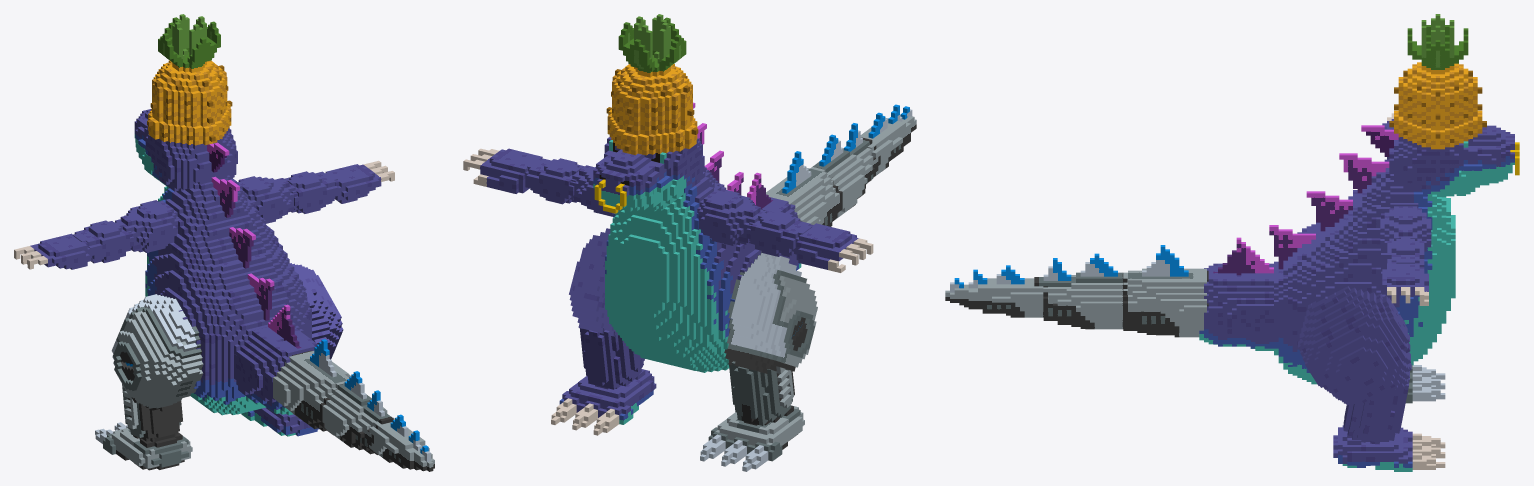
Rendered from nose ring.gltf.
3 renders of one model, left to right at view 1: azimuth 30°, elevation 25°; view 2: azimuth 150°, elevation 25°; view 3: azimuth 270°, elevation 25°, orthographic. The views are drawn at different scales.
Parts seen in each view (by area): view 1: Body-Local, Skull-Local, Upper_Leg_L-Local, Tail_01-Local, Tail_02-Local, Tail_03-Local, Feet_L-Local, Tail_04-Local, Upper_Arm_L-Local, Upper_Leg_R-Local, Claw_L-Local, Lower_Leg_L-Local (+5 smaller); view 2: Body-Local, Skull-Local, Upper_Leg_L-Local, Feet_L-Local, Feet_R-Local, Lower_Leg_L-Local, Tail_02-Local, Tail_03-Local, Upper_Leg_R-Local, Lower_Leg_R-Local, Upper_Arm_L-Local, Claw_L-Local (+8 smaller); view 3: Body-Local, Skull-Local, Upper_Leg_R-Local, Tail_01-Local, Tail_02-Local, Tail_03-Local, Tail_04-Local, Feet_R-Local, Lower_Leg_R-Local, Upper_Arm_R-Local, Claw_R-Local, Feet_L-Local (+2 smaller).
Part boxes in pixels (bbox=[...]): Body-Local: bbox=[145, 175, 311, 415]; Skull-Local: bbox=[134, 14, 237, 191]; Upper_Leg_L-Local: bbox=[111, 294, 203, 410]; Tail_01-Local: bbox=[234, 304, 317, 415]; Tail_02-Local: bbox=[273, 339, 350, 435]; Tail_03-Local: bbox=[322, 371, 393, 454]; Feet_L-Local: bbox=[95, 422, 192, 470]; Tail_04-Local: bbox=[367, 414, 434, 471]; Upper_Arm_L-Local: bbox=[115, 200, 179, 252]; Upper_Leg_R-Local: bbox=[290, 263, 343, 359]; Claw_L-Local: bbox=[14, 233, 91, 269]; Lower_Leg_L-Local: bbox=[122, 384, 182, 442]; Body-Local: bbox=[605, 123, 784, 372]; Skull-Local: bbox=[593, 14, 704, 206]; Upper_Leg_L-Local: bbox=[724, 251, 817, 373]; Feet_L-Local: bbox=[700, 405, 804, 471]; Feet_R-Local: bbox=[551, 369, 656, 435]; Lower_Leg_L-Local: bbox=[728, 359, 794, 425]; Tail_02-Local: bbox=[766, 151, 842, 226]; Tail_03-Local: bbox=[813, 123, 880, 220]; Upper_Leg_R-Local: bbox=[569, 228, 615, 336]; Lower_Leg_R-Local: bbox=[579, 327, 644, 389]; Upper_Arm_L-Local: bbox=[697, 189, 766, 245]; Claw_L-Local: bbox=[794, 223, 873, 272]; Body-Local: bbox=[1269, 153, 1455, 384]; Skull-Local: bbox=[1361, 14, 1514, 196]; Upper_Leg_R-Local: bbox=[1298, 286, 1411, 406]; Tail_01-Local: bbox=[1199, 237, 1273, 350]; Tail_02-Local: bbox=[1123, 245, 1208, 337]; Tail_03-Local: bbox=[1034, 253, 1127, 329]; Tail_04-Local: bbox=[945, 265, 1047, 317]; Feet_R-Local: bbox=[1333, 425, 1445, 471]; Lower_Leg_R-Local: bbox=[1343, 378, 1409, 443]; Upper_Arm_R-Local: bbox=[1380, 206, 1431, 251]; Claw_R-Local: bbox=[1382, 261, 1428, 305]; Feet_L-Local: bbox=[1405, 365, 1445, 403].
Bounding box in the file's own units: 92.22 × 95.29 × 123.
20 materials, 20 textured.
